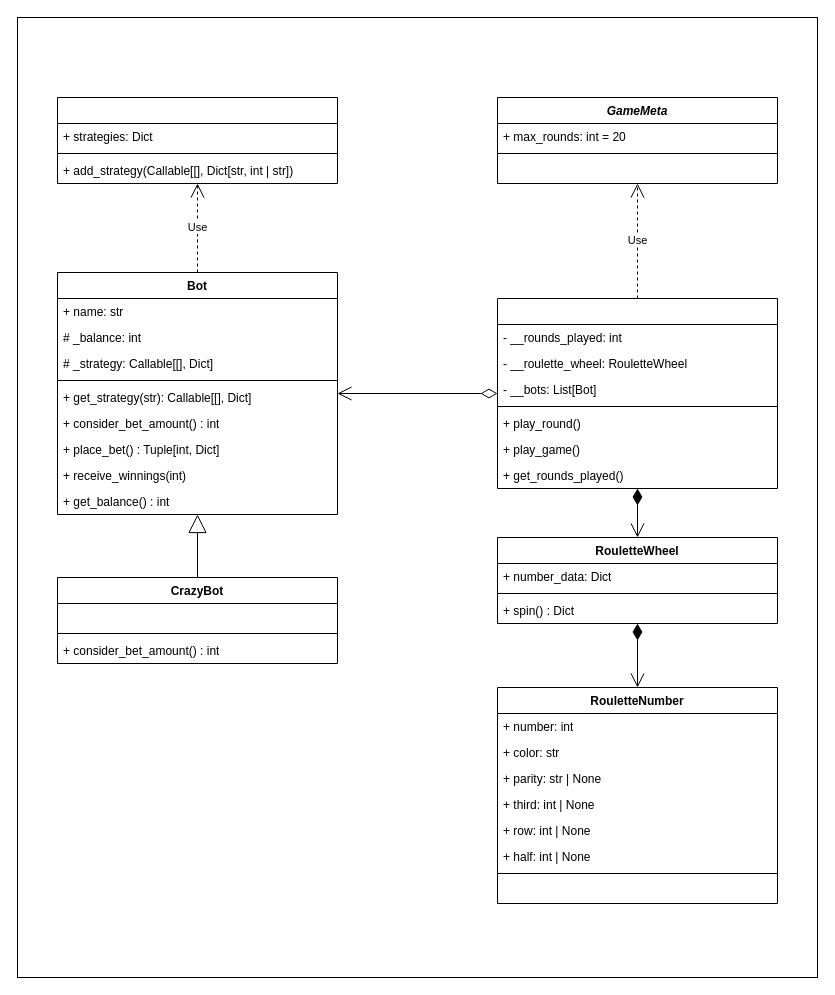
Some shapes in this 835 by 995 pixel diagram are drawn without their labels. The shapes that lost their labels are listed below. From the top down, each one's box as (x1, y1, x2, y2) in pixels, then its label:
(56, 96, 338, 184): BotMeta
(496, 298, 778, 488): Croupier
